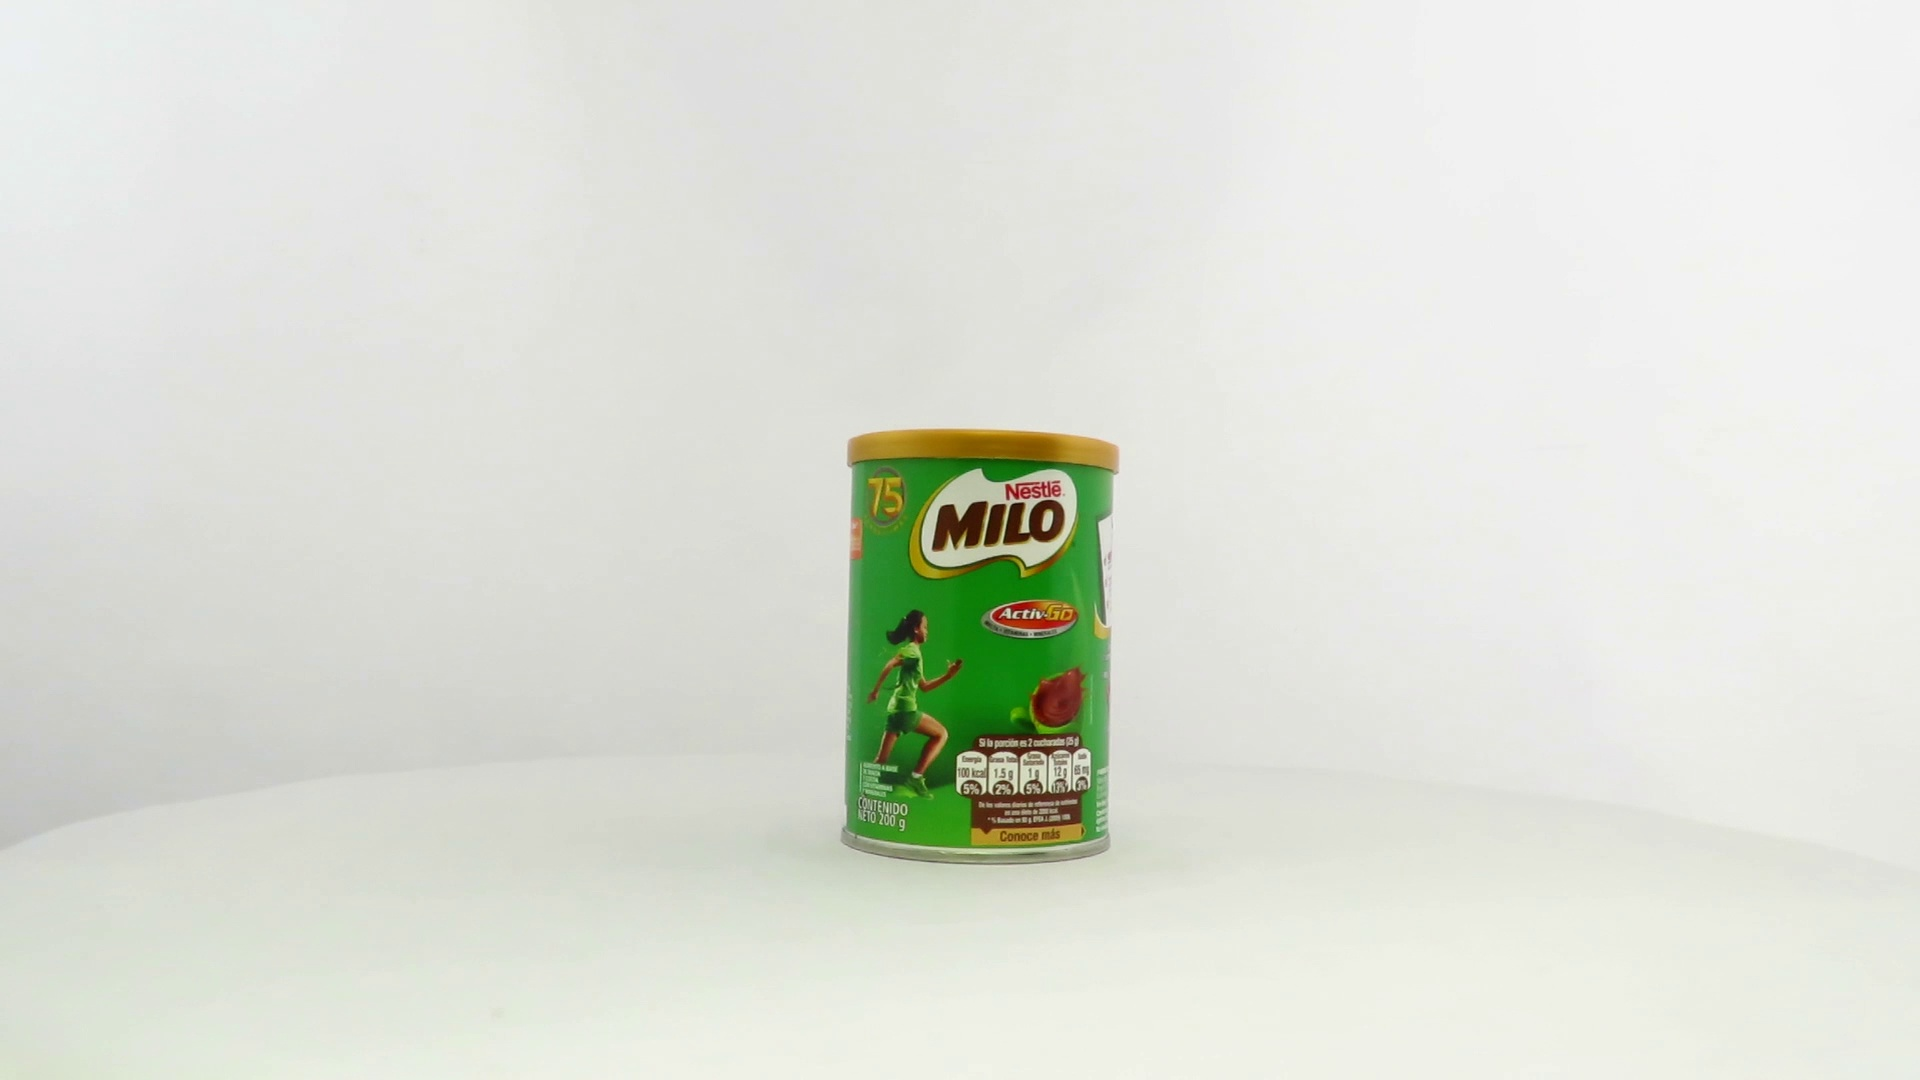COL0170203LAT20000: (835, 423, 1126, 872)
